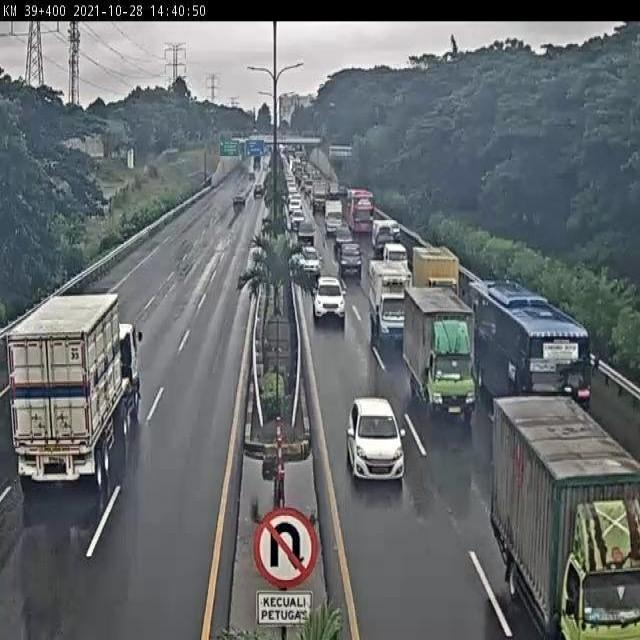big truck: (11, 291, 140, 492)
bus-l-: (466, 278, 590, 430)
car: (346, 396, 405, 481), (314, 281, 347, 323), (337, 242, 362, 278), (382, 241, 409, 272), (296, 244, 321, 277)
truck-m-: (492, 398, 640, 640), (404, 287, 477, 417), (368, 262, 414, 346), (413, 247, 462, 297)
